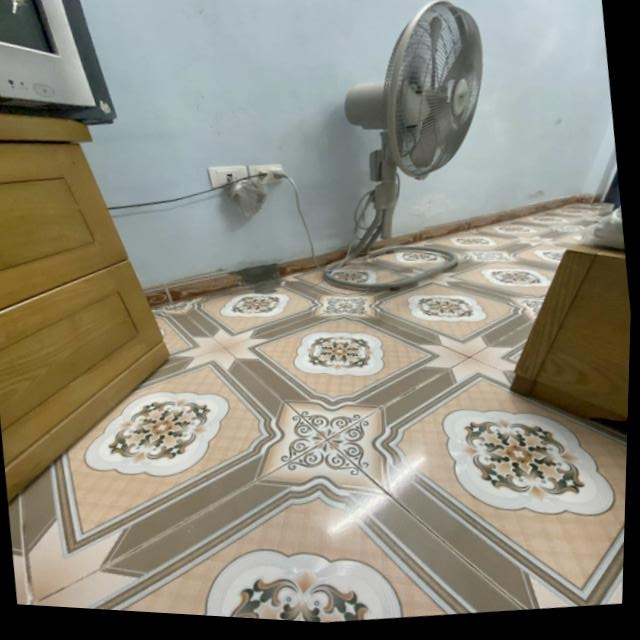outlet: (208, 162, 251, 191), (249, 160, 287, 186)
